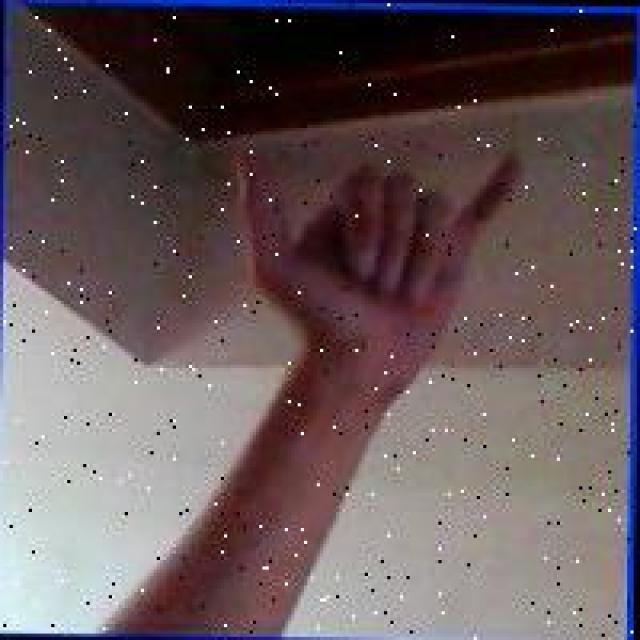Y: (219, 136, 533, 363)
